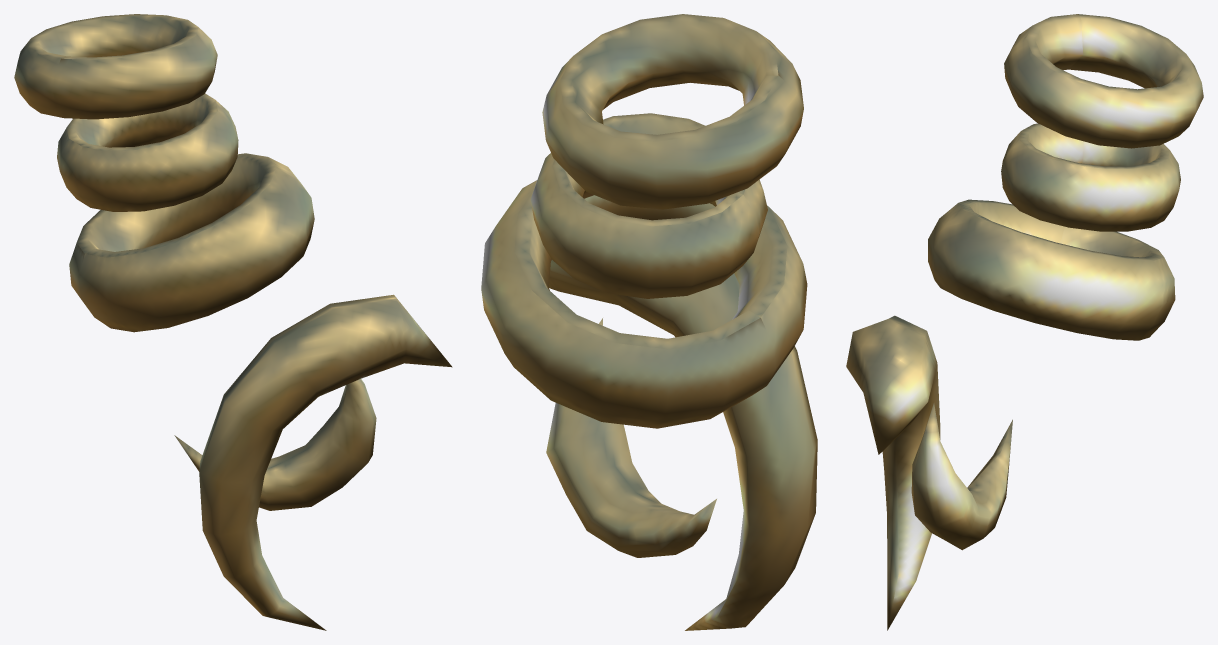
Rendered from sm_dwarf_accessories_06.gltf.
3 renders of one model, left to right at view 1: azimuth 30°, elevation 25°; view 2: azimuth 150°, elevation 25°; view 3: azimuth 270°, elevation 25°, orthographic. The views are drawn at different scales.
Parts seen in each view (by area): view 1: sm_dwarf_accessories_06; view 2: sm_dwarf_accessories_06; view 3: sm_dwarf_accessories_06.
Part boxes in pixels (x1,y1,x2,y2): sm_dwarf_accessories_06: (14,14,452,630); sm_dwarf_accessories_06: (481,14,817,630); sm_dwarf_accessories_06: (846,14,1203,630).
Bounding box in the file's own units: 4.88 × 8.26 × 4.92.
Materials: 1 (1 with a texture image).
